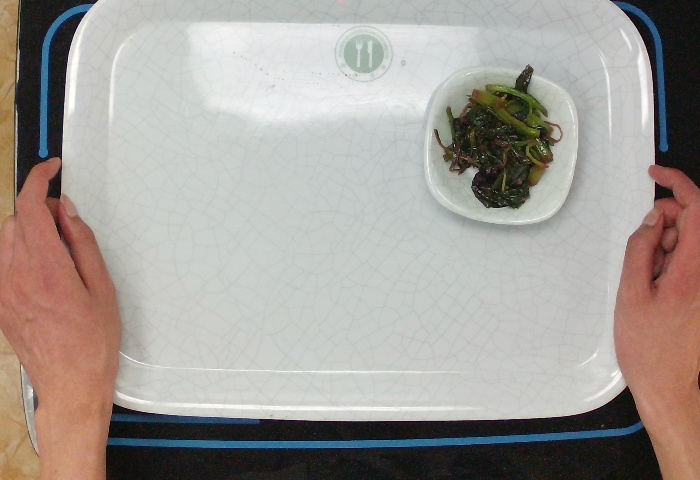JYsf-Si_Fang_Die: (418, 60, 588, 231)
